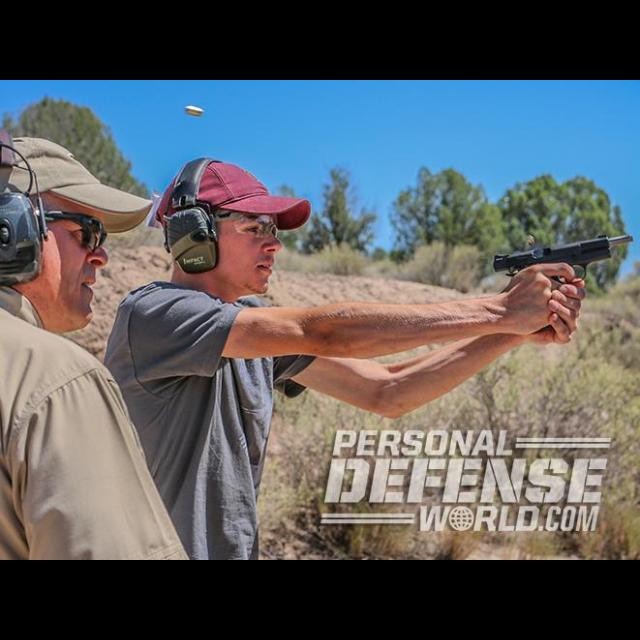handgun: (490, 230, 636, 286)
